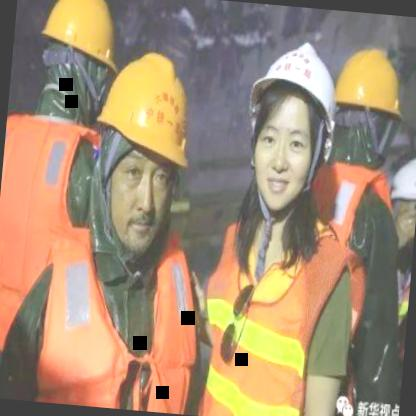helmet: (77, 41, 202, 262), (232, 26, 346, 225), (27, 0, 123, 127), (330, 37, 408, 176)
